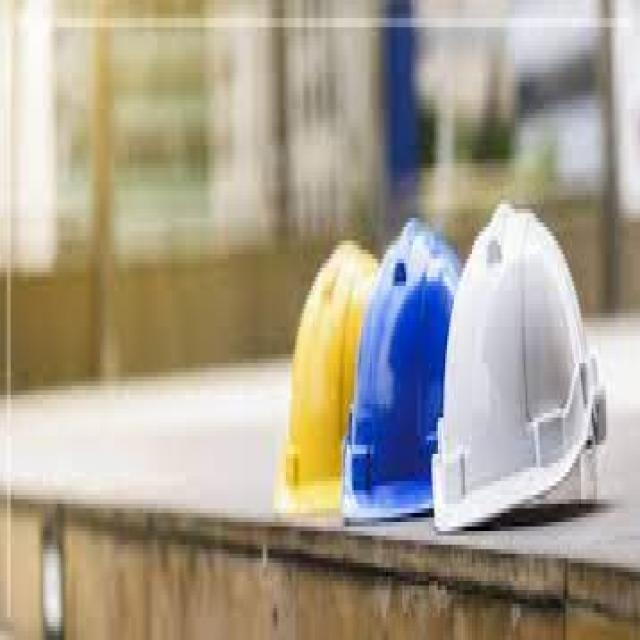safety_helmet: (428, 185, 636, 567), (334, 204, 473, 562), (261, 217, 386, 549)
